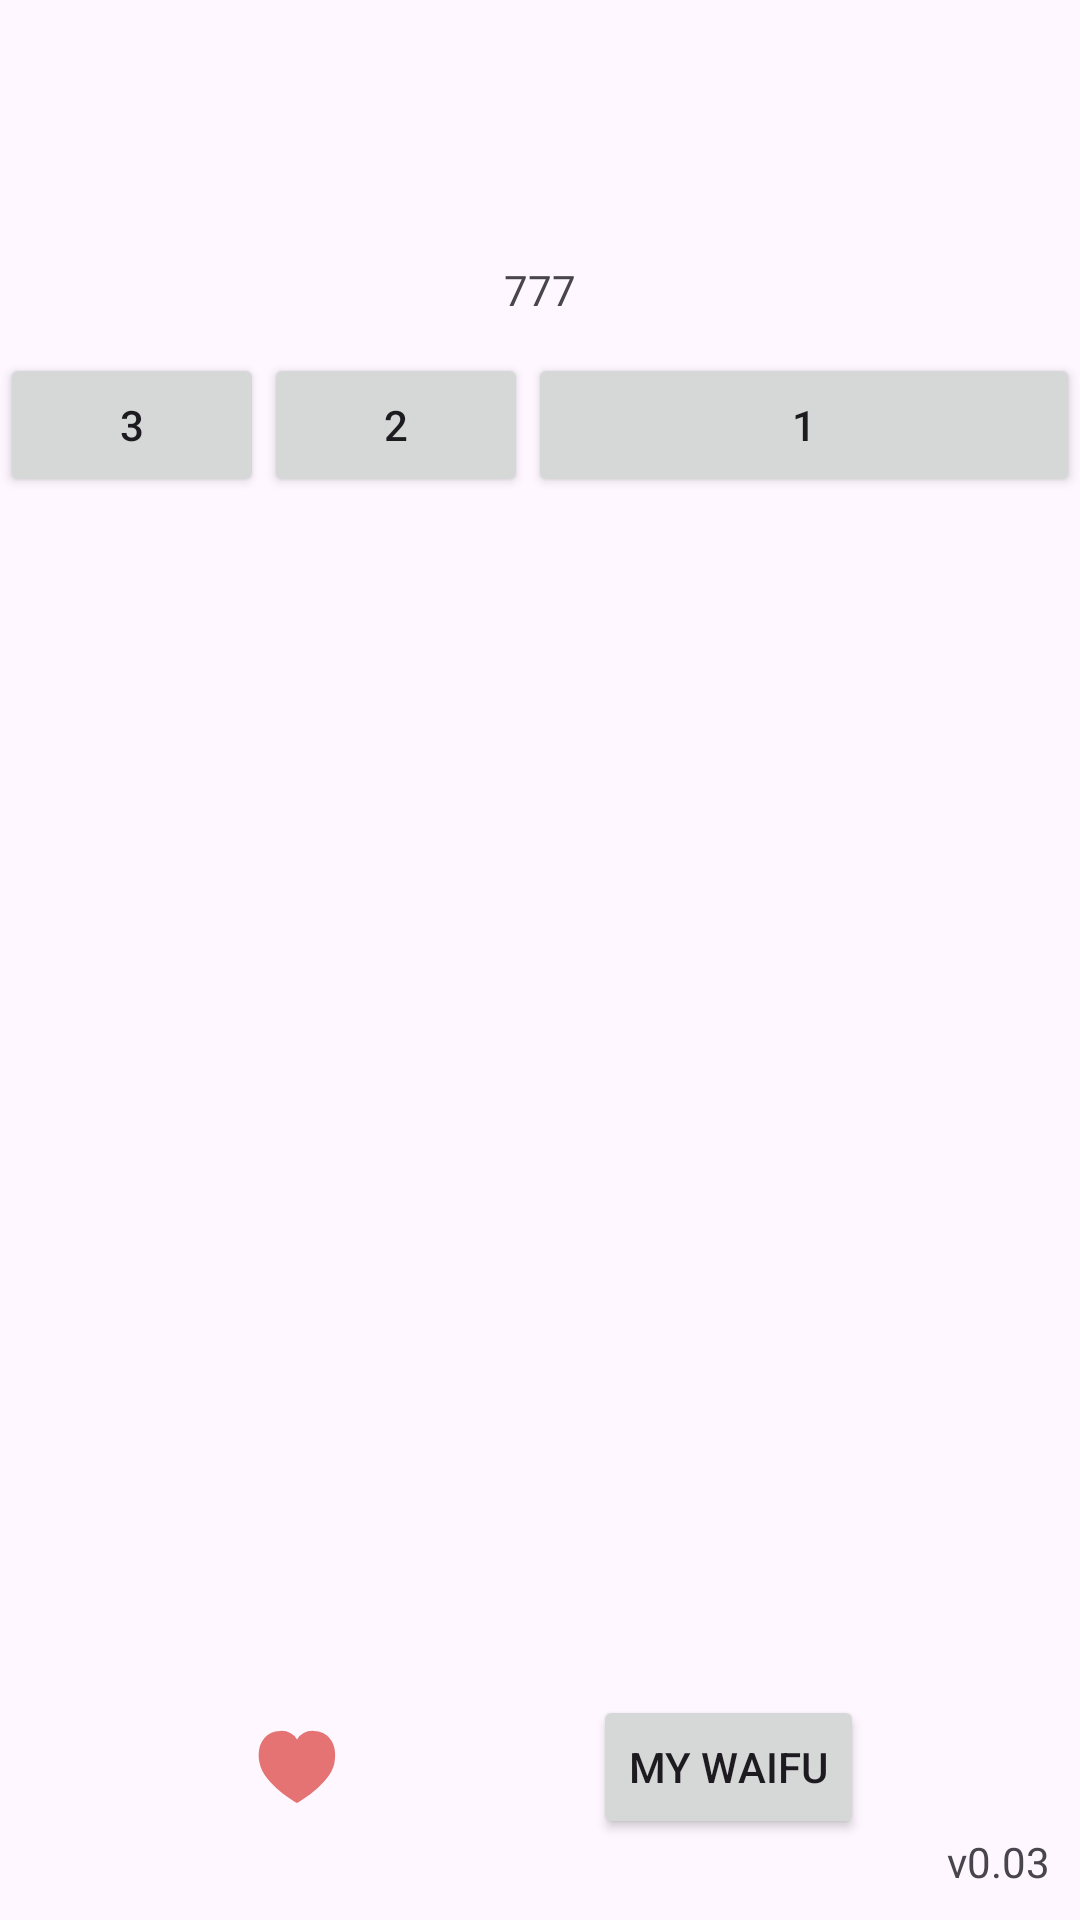

Locate icon controls on the screen. Image size 1080px x 1920px, boxes as (x1, y1, x2, y2).
love: (258, 1730, 335, 1803)
